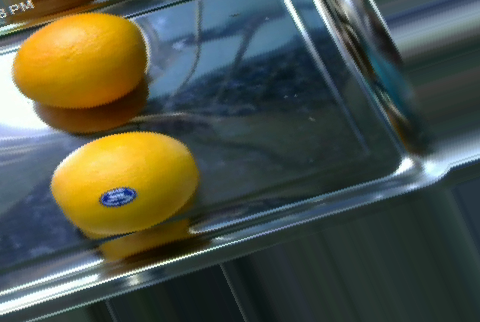Orange: (49, 129, 199, 236), (10, 11, 148, 107)
